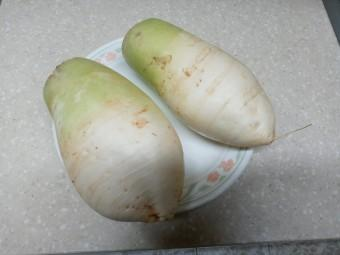radish: (23, 22, 98, 89), (65, 7, 149, 60)
